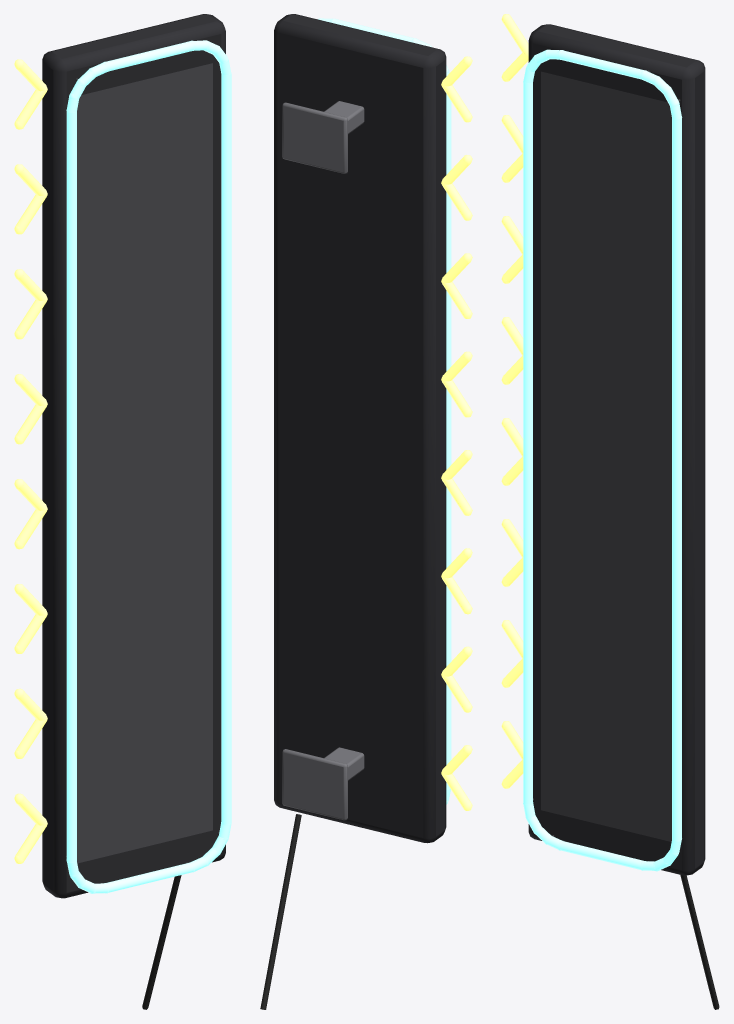
File: neon_blade_b.glb
3 views of the same model, side by side, from view 1: azimuth 30°, elevation 25°; view 2: azimuth 150°, elevation 25°; view 3: azimuth 330°, elevation 25° (orthographic). The views are drawn at different scales.
Visible parts, largest first — view 1: neon_blade_b; view 2: neon_blade_b; view 3: neon_blade_b.
Boxes of the visible parts, x1,y1,x2,y2 form: neon_blade_b: [14, 14, 231, 1009]; neon_blade_b: [260, 14, 472, 1009]; neon_blade_b: [501, 14, 719, 1009].
Bounding box in the file's own units: 0.7168 × 3.42 × 0.4068.
